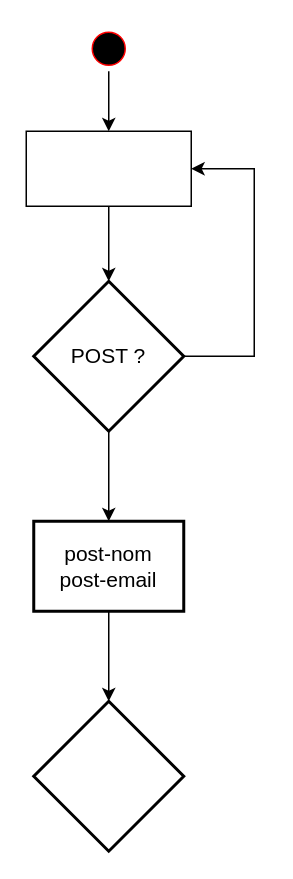
The diagram is 293 pixels wide and 879 high, and some of its shapes have lost their labels. Here are the shapes that lost their labels. From the top down, the centre of each, then its label:
At [108,168]: "form connexion".
At [108,775]: "email enregistré?".
